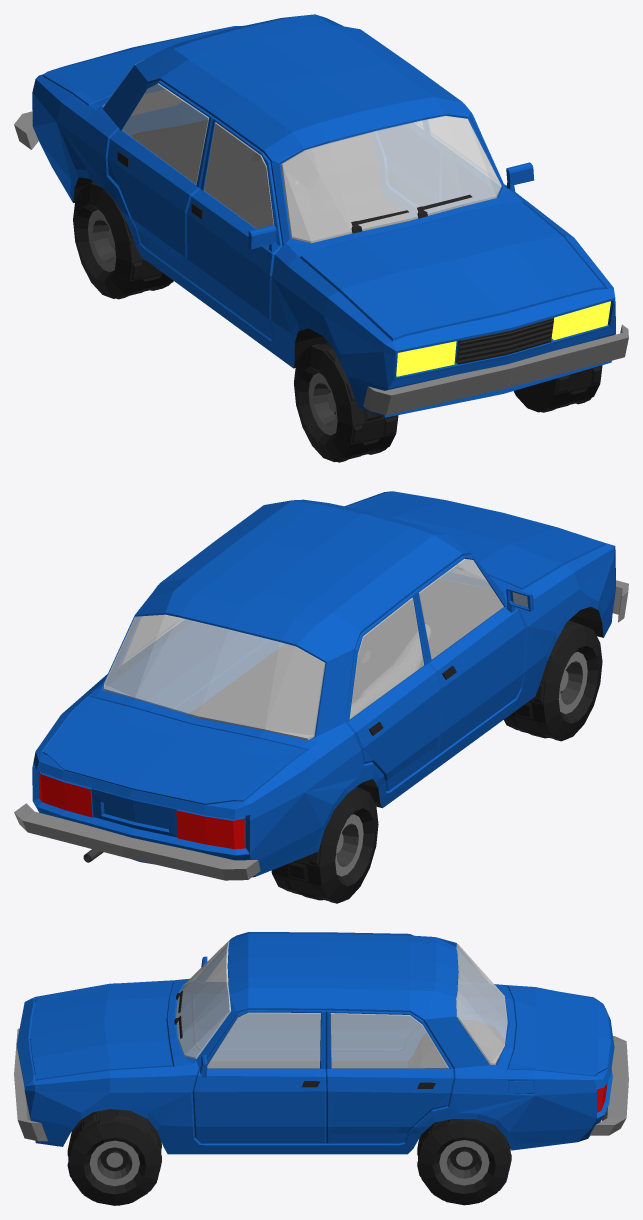
The model's file is BLUE.glb.
3 views of the same model, one above another, from view 1: azimuth 30°, elevation 25°; view 2: azimuth 150°, elevation 25°; view 3: azimuth 270°, elevation 25° (orthographic). The views are drawn at different scales.
Visible parts, largest first — view 1: Car.001; view 2: Car.001; view 3: Car.001.
Part boxes in pixels (x1,y1,x2,y2): Car.001: [14, 14, 628, 462]; Car.001: [14, 491, 628, 903]; Car.001: [14, 932, 628, 1205].
Bounding box in the file's own units: 1.79 × 1.54 × 4.29.
Materials: 4 (1 with a texture image).
